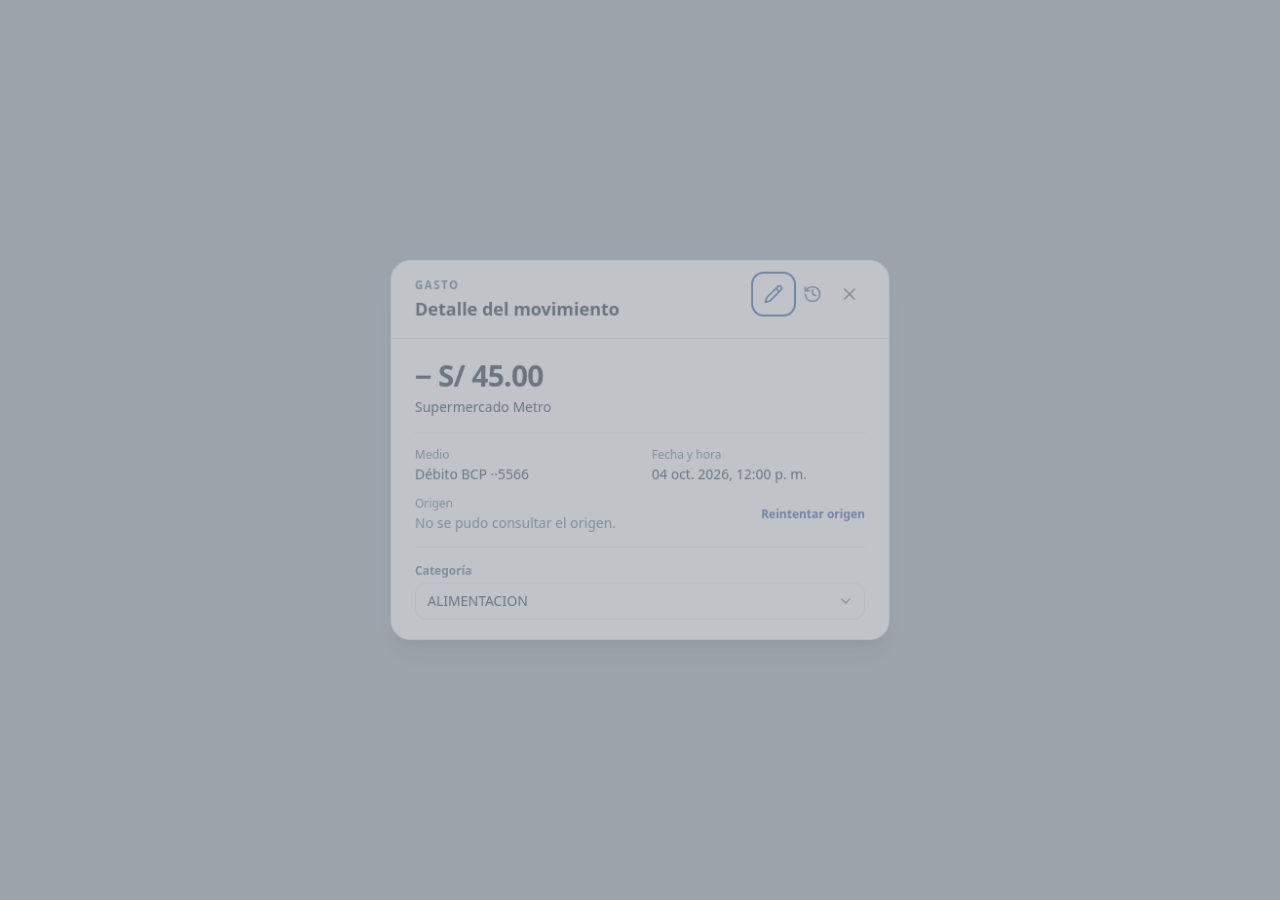
Test: edits and saves only the category
Change category
Select "COMPRAS" in the dropdown labelled "Categoría" at (640, 601), box [415, 583, 865, 620]
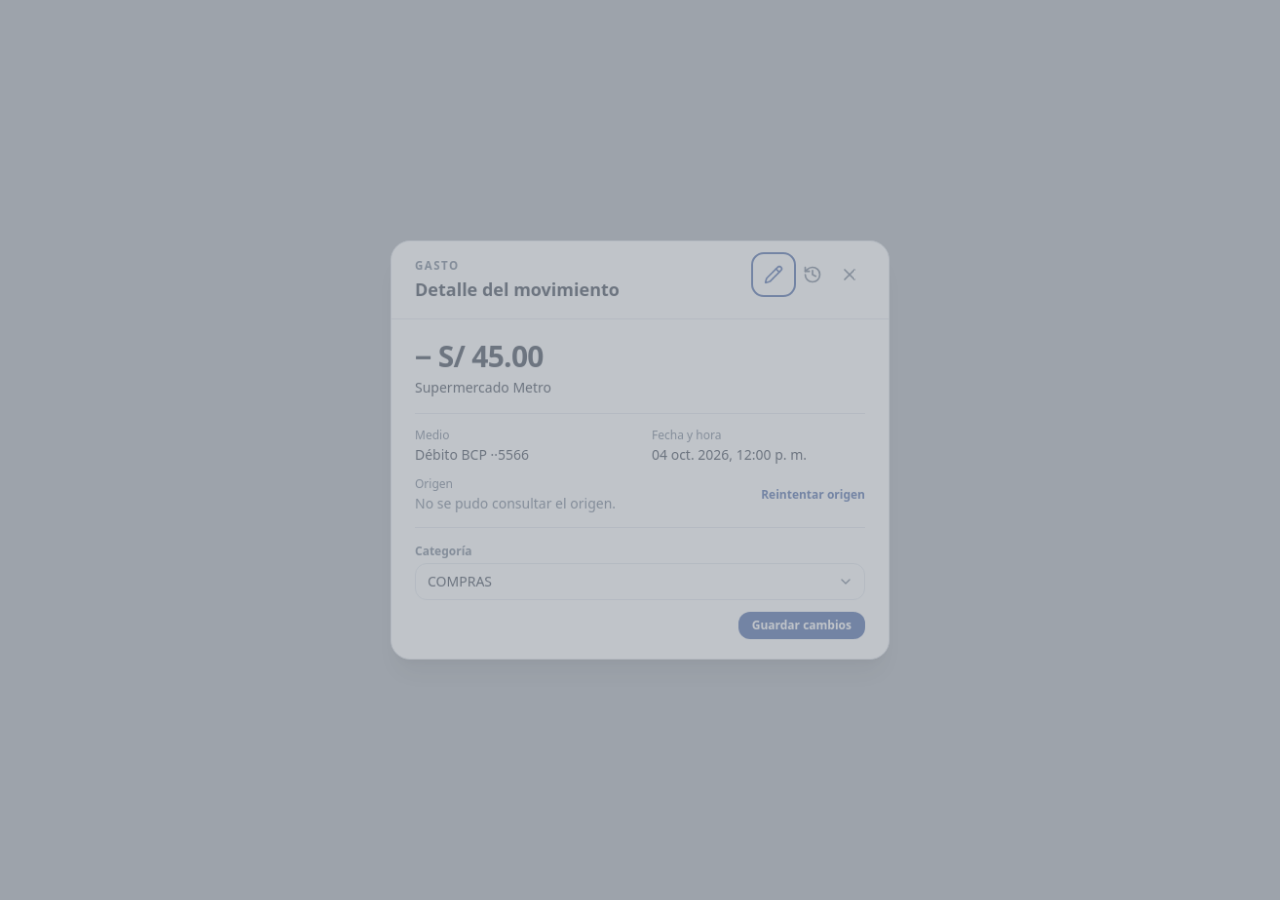
Click the button "Guardar cambios" at (802, 626), box [738, 612, 865, 639]
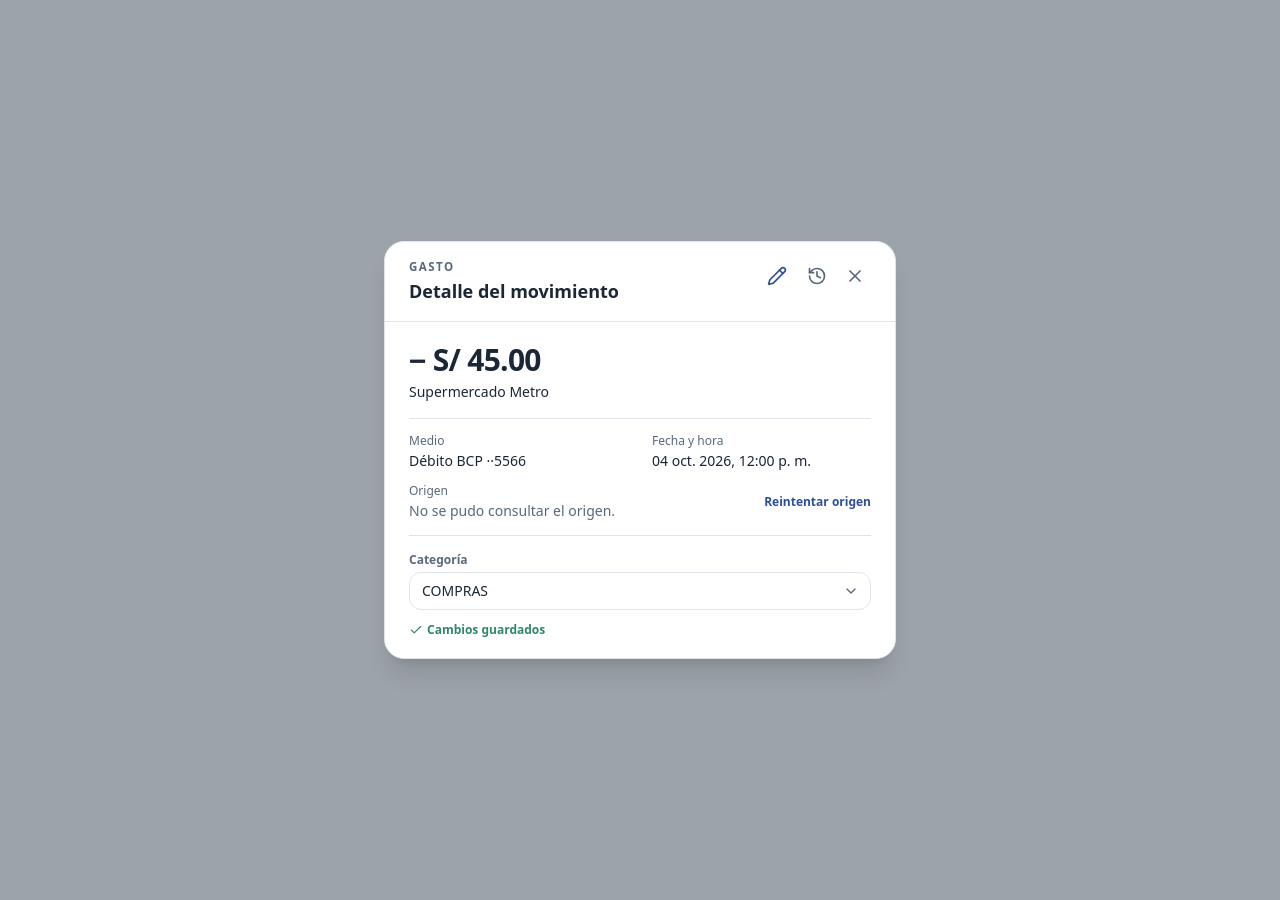
Expected: the text "Cambios guardados" is shown, [409, 622, 545, 638]
